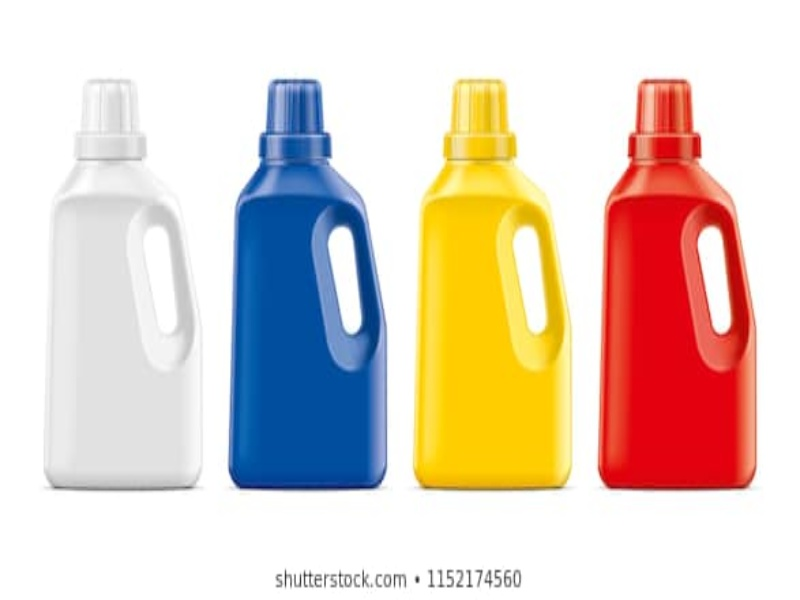detergent-bottle: (599, 78, 772, 492), (226, 75, 390, 489), (415, 78, 580, 489), (48, 77, 206, 493)
